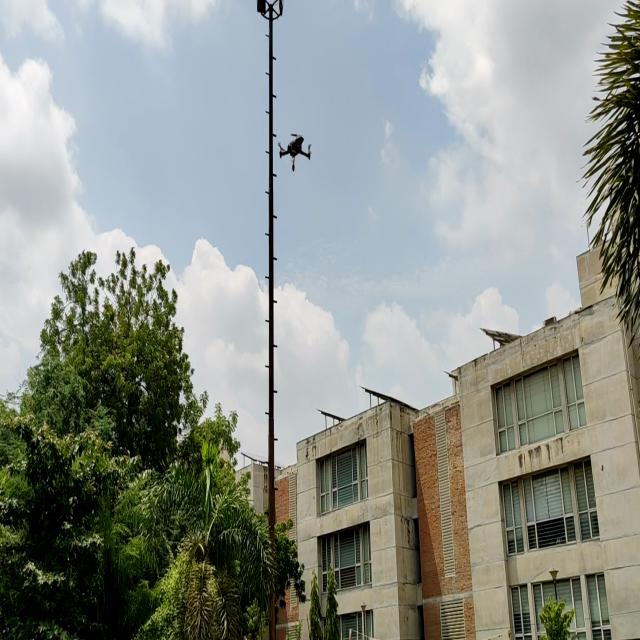drone: (274, 121, 316, 181)
